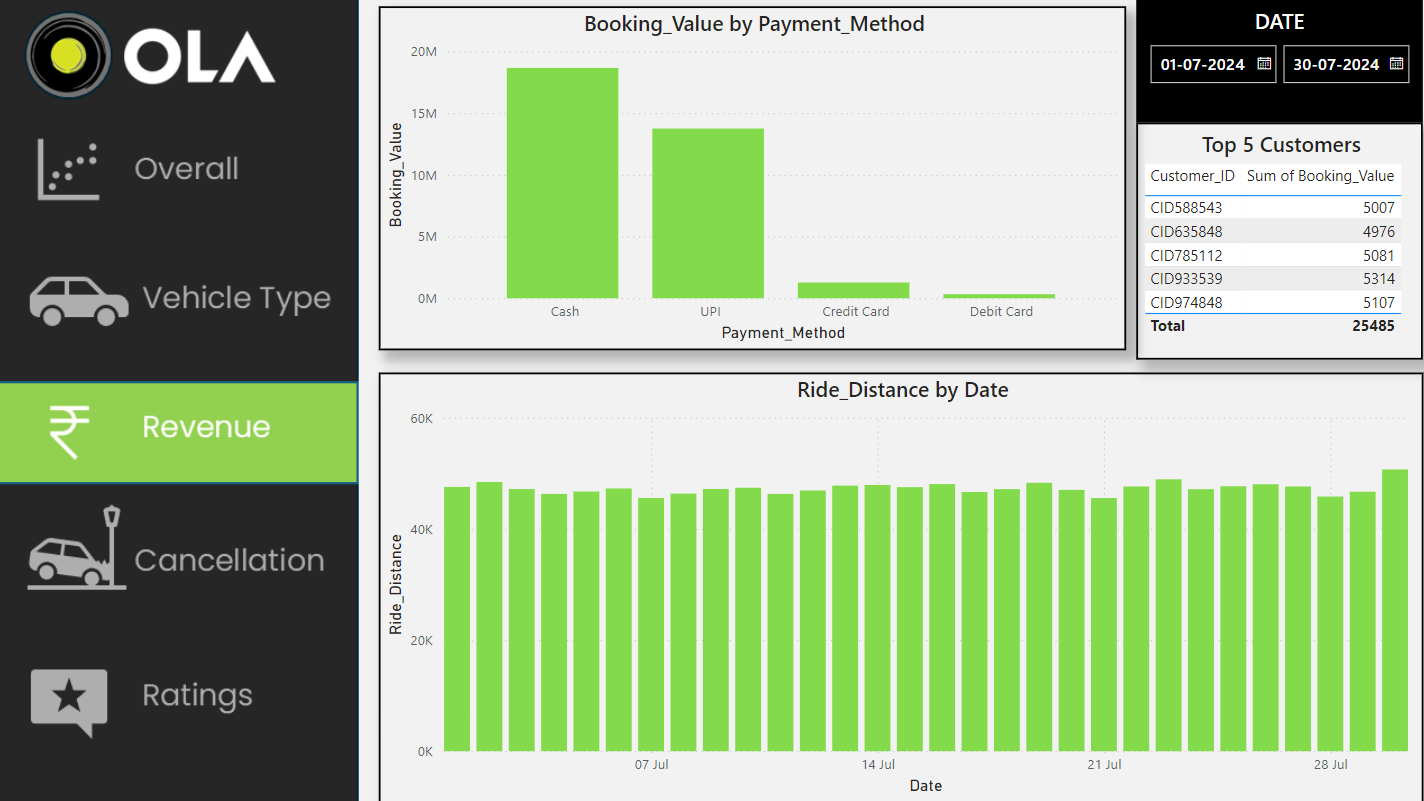

The page's visual inventory and layout, read from the dashboard file:
{"tool":"powerbi","page":{"name":"Revenue","canvas":[1280,720],"ordinal":2},"visuals":[{"type":"actionButton","box":[0,220.8,324.5,95.3],"z":0},{"type":"actionButton","box":[0,336.6,324.5,95.3],"z":1000},{"type":"actionButton","box":[0,451.2,324.5,95.3],"z":2000},{"type":"actionButton","box":[1.2,580.3,324.5,95.3],"z":3000},{"type":"actionButton","box":[0,103.8,324.5,95.3],"z":4000},{"type":"columnChart","fields":{"Y":["Sum(July.Booking_Value)"],"Category":["July.Payment_Method"]},"box":[341.4,9.7,666,306.4],"z":5000},{"type":"columnChart","fields":{"Category":["July.Date"],"Y":["Sum(July.Ride_Distance)"]},"box":[341.4,336.6,930.2,383.6],"z":6000},{"type":"slicer","title":"DATE","fields":{"Values":["July.Date"]},"box":[1016.8,0,255.2,113.9],"z":7000},{"type":"tableEx","title":"Top 5 Customers","fields":{"Values":["July.Customer_ID","Sum(July.Booking_Value)"]},"box":[1016.8,113.9,255.2,211.3],"z":8000}]}

Visuals, with their boxes in screenshot pixels (x1, y1, x2, y2), scaled from the page's 1280x720 canvas onto the 1424x801 screenshot:
actionButton: [x1=0, y1=246, x2=361, y2=352]
actionButton: [x1=0, y1=374, x2=361, y2=480]
actionButton: [x1=0, y1=502, x2=361, y2=608]
actionButton: [x1=1, y1=646, x2=362, y2=752]
actionButton: [x1=0, y1=115, x2=361, y2=221]
columnChart - Sum(July.Booking_Value) x July.Payment_Method: [x1=380, y1=11, x2=1121, y2=352]
columnChart - July.Date x Sum(July.Ride_Distance): [x1=380, y1=374, x2=1415, y2=800]
"DATE" slicer: [x1=1131, y1=0, x2=1415, y2=127]
"Top 5 Customers" tableEx: [x1=1131, y1=127, x2=1415, y2=362]
